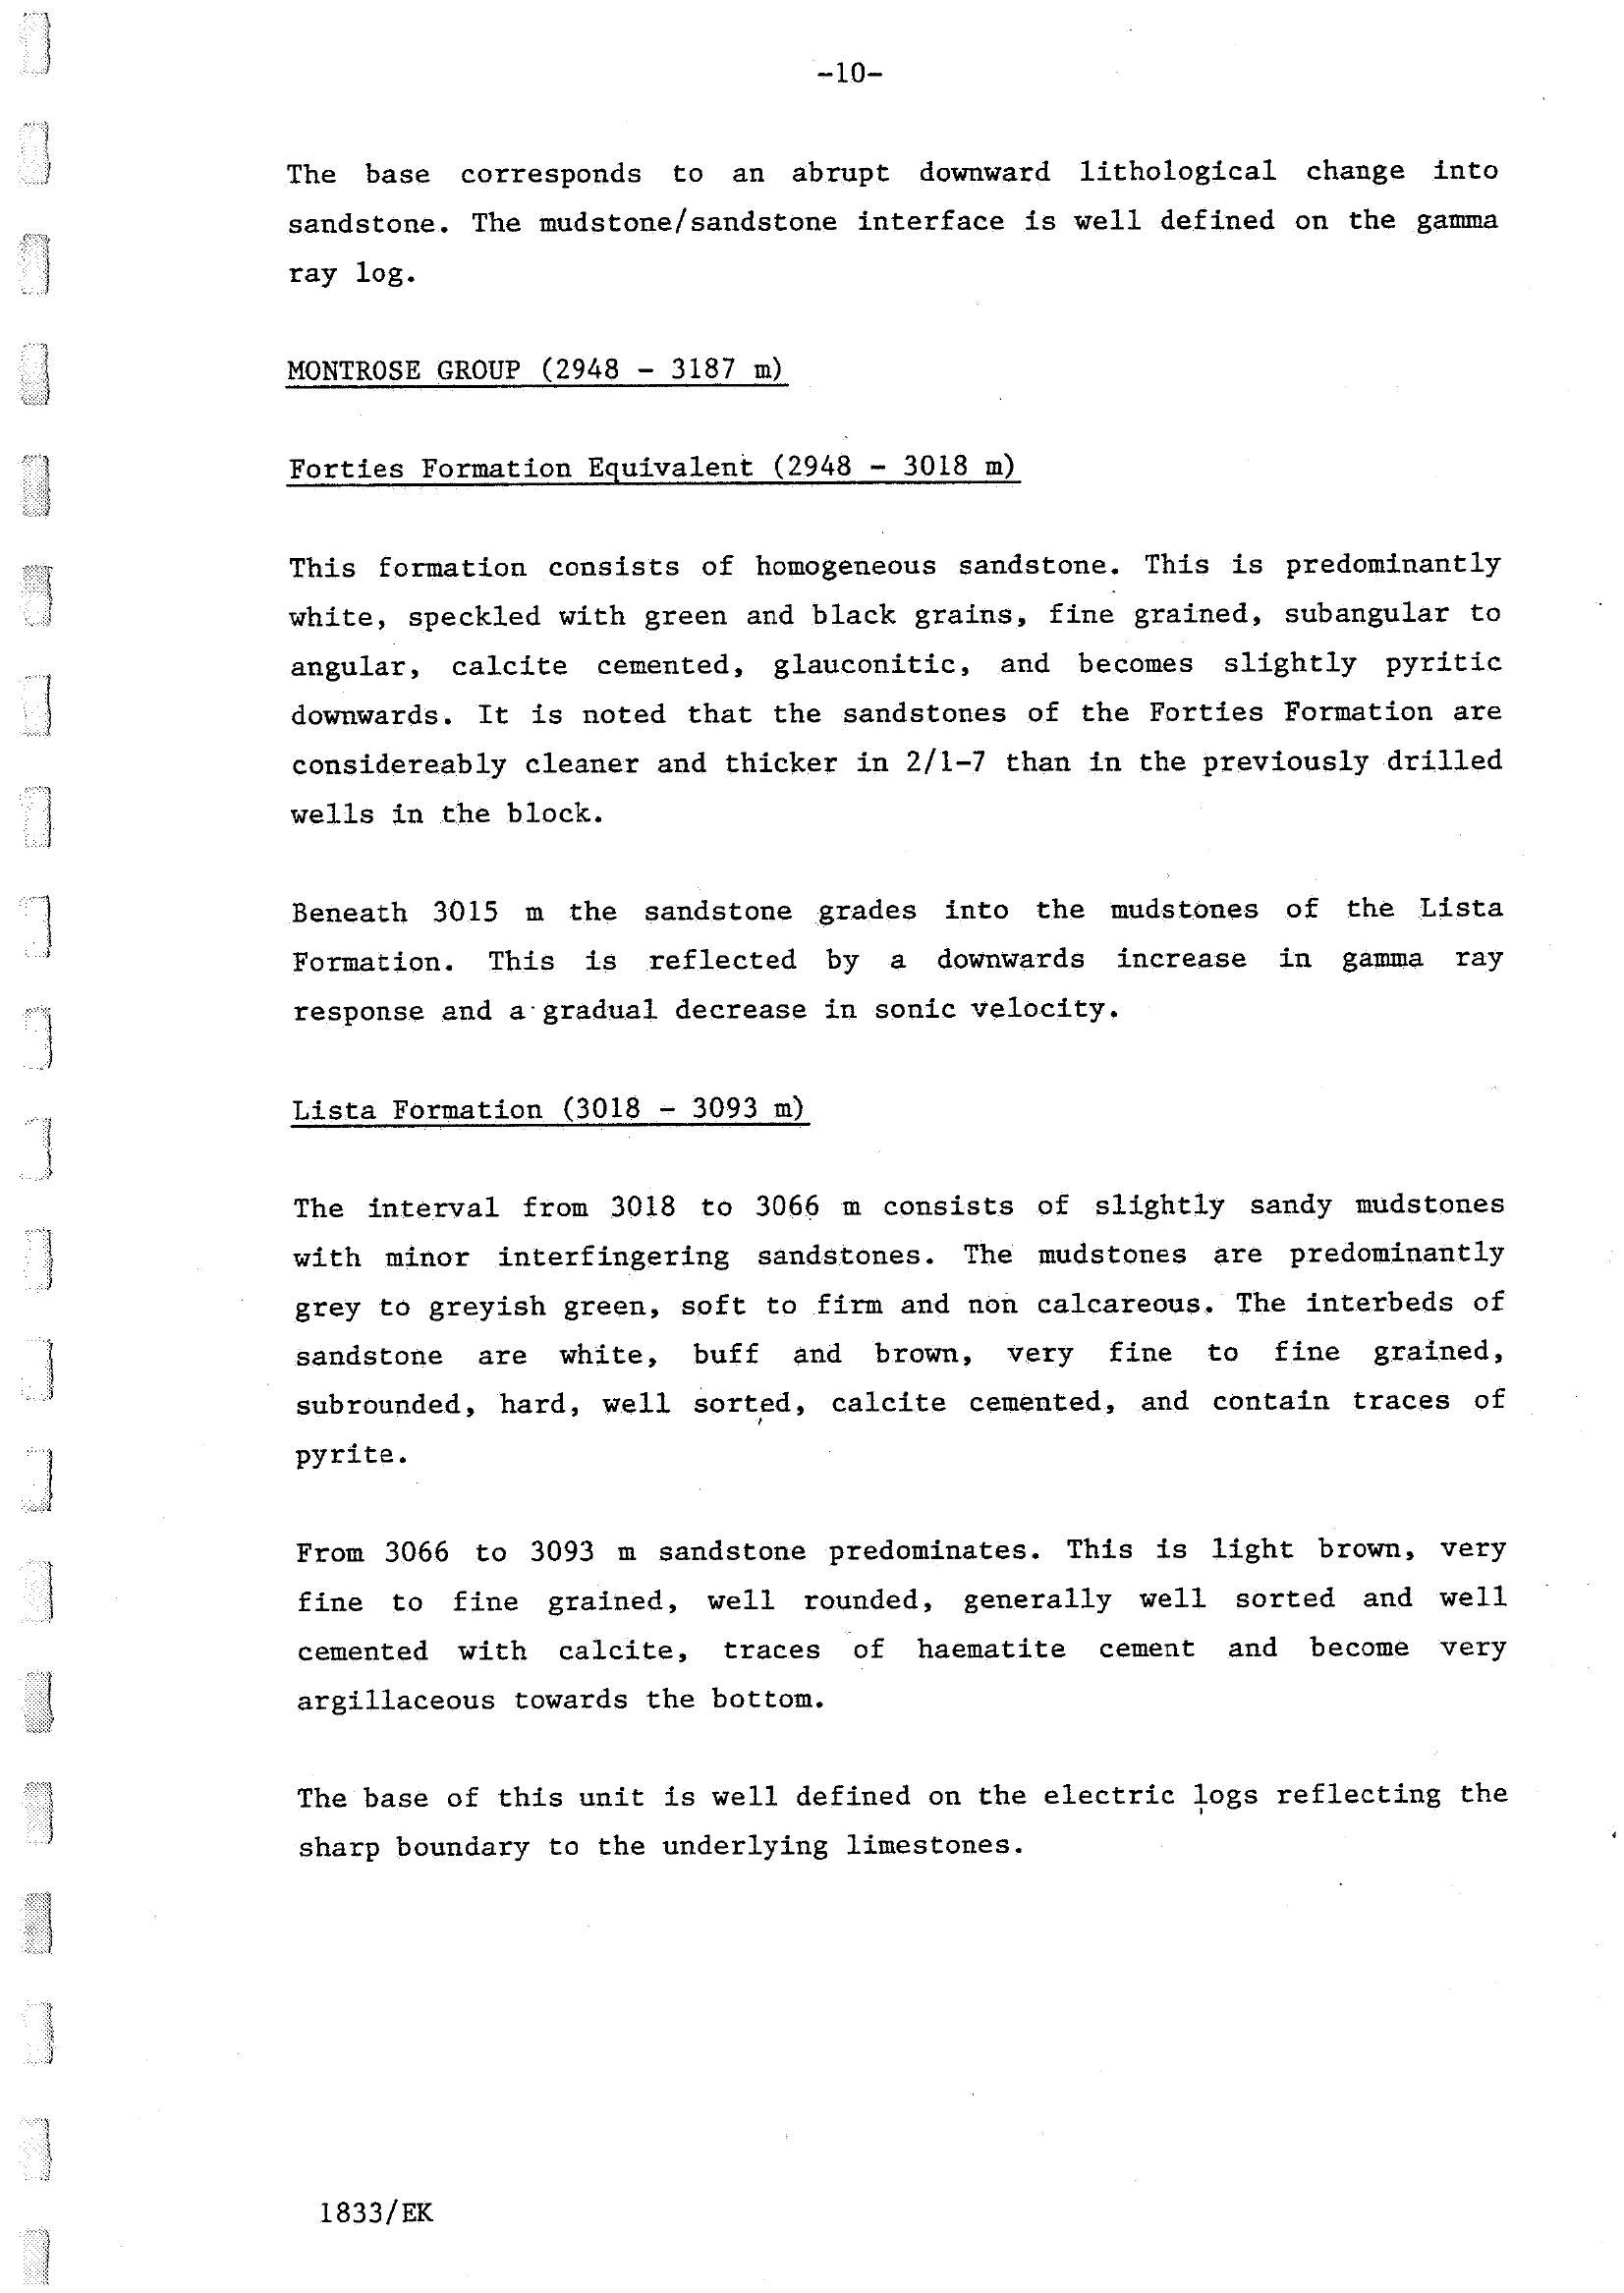text: (236, 118, 1573, 1926)
